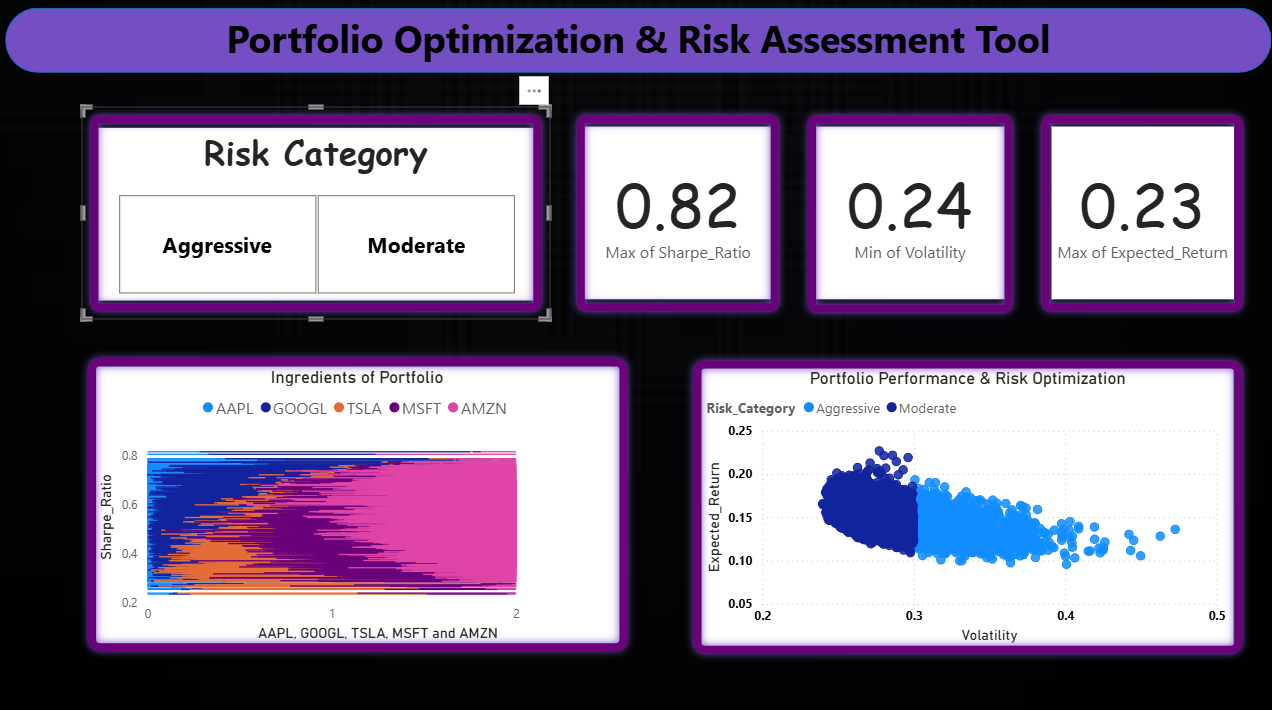

The dashboard page shown, as its layout file describes it:
{"tool":"powerbi","page":{"name":"Page 1","canvas":[1280,720],"ordinal":0},"visuals":[{"type":"image","box":[0,0,1280,720.3],"z":0},{"type":"shape","box":[11.2,13.7,1260.1,64.7],"z":1000},{"type":"shape","box":[1033.7,112,217.7,212.7],"z":2000},{"type":"textbox","box":[11.2,13.7,1260.1,64.7],"z":3000},{"type":"scatterChart","title":"Portfolio Performance & Risk Optimization","fields":{"X":["portfolio portfolio_optimization_results.Volatility"],"Y":["portfolio portfolio_optimization_results.Expected_Return"],"Series":["portfolio portfolio_optimization_results.Risk_Category"]},"box":[704.1,371.9,529.9,278.6],"z":4000},{"type":"card","fields":{"Values":["Max(portfolio portfolio_optimization_results.Sharpe_Ratio)"]},"box":[587.1,131.9,187.8,171.7],"z":5000},{"type":"card","fields":{"Values":["Min(portfolio portfolio_optimization_results.Volatility)"]},"box":[814.8,131.9,194.1,171.7],"z":6000},{"type":"card","fields":{"Values":["Max(portfolio portfolio_optimization_results.Expected_Return)"]},"box":[1052.4,131.9,181.6,171.7],"z":7000},{"type":"shape","box":[801.1,112,221.4,214],"z":8000},{"type":"shape","box":[571,112,218.9,212.7],"z":9000},{"type":"shape","box":[686.7,355.8,564.8,309.7],"z":10000},{"type":"barChart","title":"Ingredients of Portfolio","fields":{"Y":["Sum(portfolio portfolio_optimization_results.Weight_AAPL)","Sum(portfolio portfolio_optimization_results.Weight_GOOGL)","Sum(portfolio portfolio_optimization_results.Weight_TSLA)","Sum(portfolio portfolio_optimization_results.Weight_MSFT)","Sum(portfolio portfolio_optimization_results.Weight_AMZN)"],"Category":["portfolio portfolio_optimization_results.Sharpe_Ratio"]},"box":[98.3,370.7,526.2,278.6],"z":11000},{"type":"shape","box":[84.6,353.3,554.8,309.7],"z":12000},{"type":"slicer","title":"Risk Category","fields":{"Values":["portfolio portfolio_optimization_results.Risk_Category"]},"box":[98.3,133.1,444.1,171.7],"z":13000},{"type":"shape","box":[87.1,112,466.5,212.7],"z":14000}]}

Visuals, with their boxes in screenshot pixels (x1, y1, x2, y2), scaled from the page's 1280x720 canvas onto the 1272x710 screenshot:
image: <region>0, 0, 1271, 709</region>
shape: <region>11, 14, 1263, 77</region>
shape: <region>1027, 110, 1244, 320</region>
textbox: <region>11, 14, 1263, 77</region>
"Portfolio Performance & Risk Optimization" scatterChart: <region>700, 367, 1226, 641</region>
card - Max(portfolio portfolio_optimization_results.Sharpe_Ratio): <region>583, 130, 770, 299</region>
card - Min(portfolio portfolio_optimization_results.Volatility): <region>810, 130, 1003, 299</region>
card - Max(portfolio portfolio_optimization_results.Expected_Return): <region>1046, 130, 1226, 299</region>
shape: <region>796, 110, 1016, 321</region>
shape: <region>567, 110, 785, 320</region>
shape: <region>682, 351, 1244, 656</region>
"Ingredients of Portfolio" barChart: <region>98, 366, 621, 640</region>
shape: <region>84, 348, 635, 654</region>
"Risk Category" slicer: <region>98, 131, 539, 301</region>
shape: <region>87, 110, 550, 320</region>
